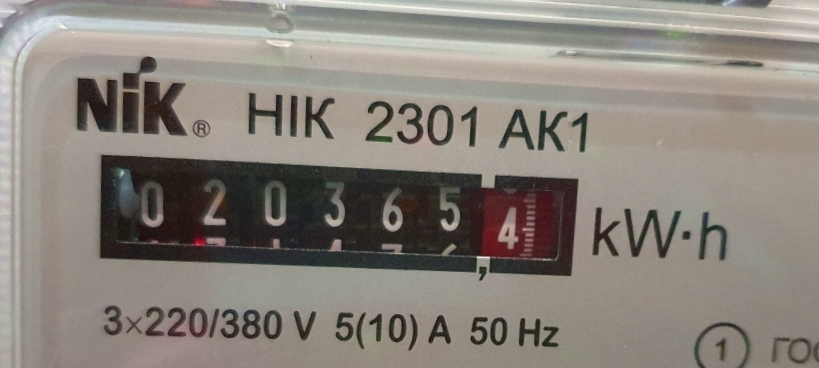0: (134, 175, 170, 231), (260, 178, 292, 229)
2: (198, 175, 231, 227)
3: (319, 179, 350, 229)
4: (495, 202, 520, 251)
5: (436, 185, 465, 233)
6: (378, 182, 406, 234)
screen: (81, 136, 595, 298)
